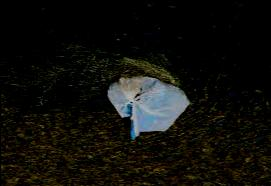Plastic: (102, 71, 192, 138)
